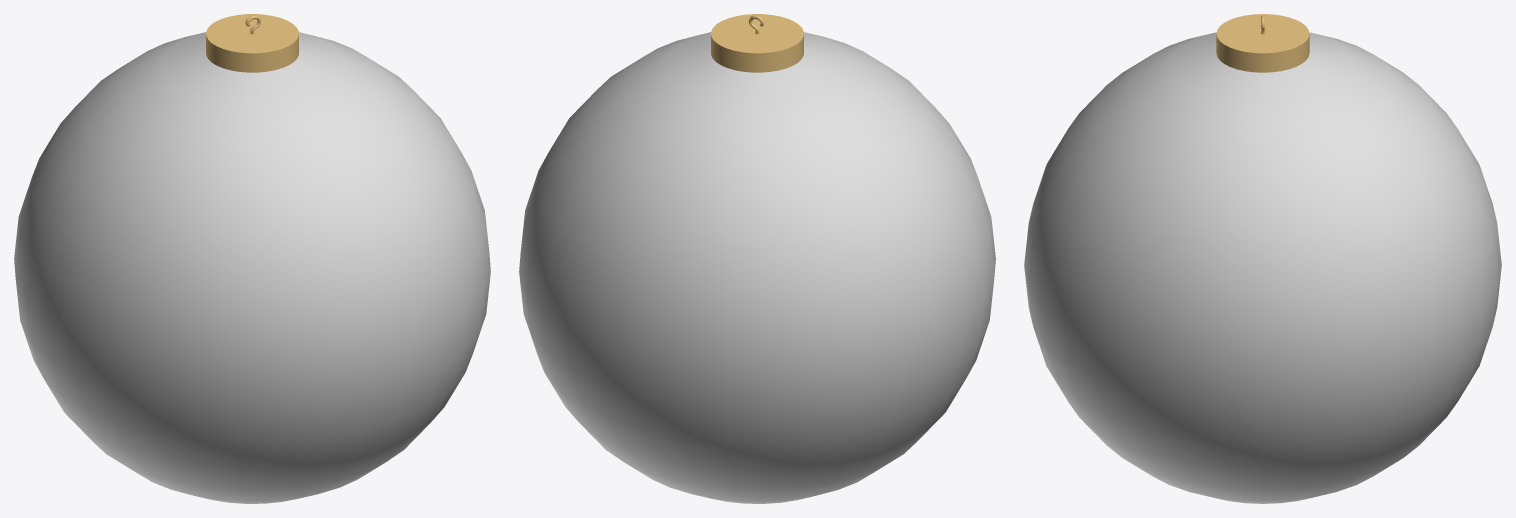
Rendered from bauble.fbx.
The picture shows the model from 3 angles, left to right: view 1: azimuth 30°, elevation 25°; view 2: azimuth 150°, elevation 25°; view 3: azimuth 270°, elevation 25°; orthographic projection.
Parts seen in each view (by area): view 1: Sphere; view 2: Sphere; view 3: Sphere.
Part boxes in pixels (bbox=[...]): Sphere: bbox=[14, 14, 490, 503]; Sphere: bbox=[519, 14, 995, 503]; Sphere: bbox=[1024, 14, 1501, 503].
Size of the model in its own units: 50 by 53.79 by 50.
